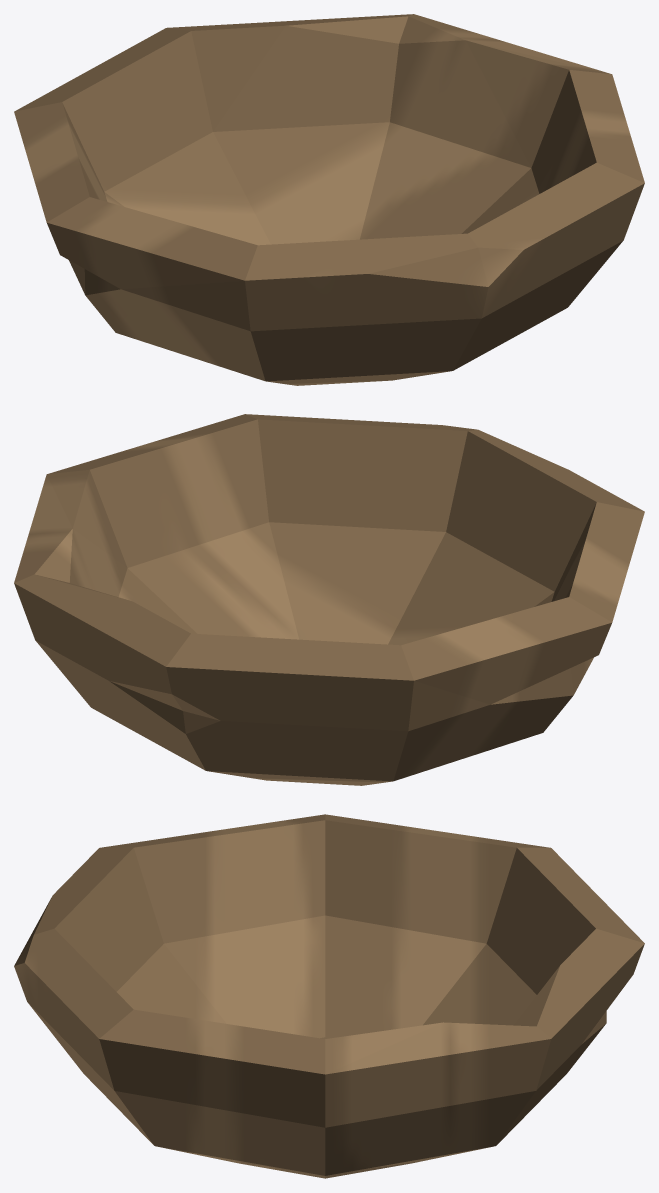
File: SM_Prop_Bowl_01.fbx
3 renders of one model, top to bottom at view 1: azimuth 30°, elevation 25°; view 2: azimuth 150°, elevation 25°; view 3: azimuth 270°, elevation 25°, orthographic. The views are drawn at different scales.
Visible parts, largest first — view 1: SM_Prop_Bowl_01; view 2: SM_Prop_Bowl_01; view 3: SM_Prop_Bowl_01.
Part boxes in pixels (box(x1,y1,x2,y2)): SM_Prop_Bowl_01: box(14, 14, 644, 385); SM_Prop_Bowl_01: box(14, 414, 644, 785); SM_Prop_Bowl_01: box(14, 814, 644, 1178).
Size of the model in its own units: 34.7 by 12.11 by 34.24.
